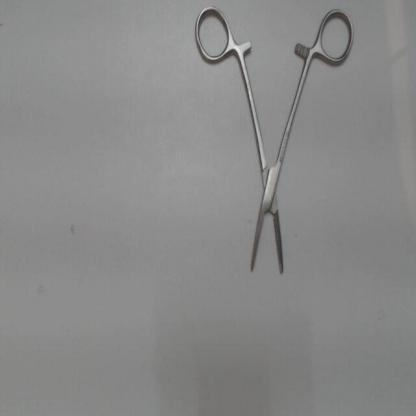Mayo Needle Holder: (187, 2, 358, 283)
